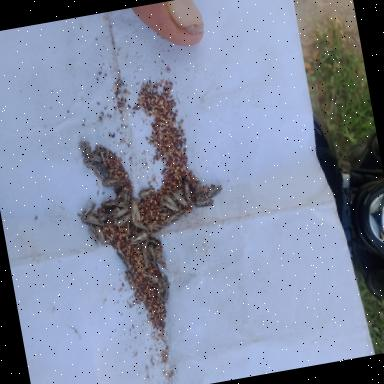pbw: (113, 240, 133, 274), (139, 234, 156, 270), (76, 194, 98, 220), (126, 228, 152, 250), (138, 263, 160, 286), (158, 192, 180, 215), (153, 247, 170, 274), (128, 215, 150, 235), (162, 209, 187, 226), (158, 273, 172, 303), (182, 180, 194, 212), (128, 196, 142, 222), (153, 276, 167, 300), (134, 186, 157, 200), (86, 212, 106, 228), (204, 183, 224, 199), (172, 189, 188, 209), (101, 176, 120, 192), (146, 244, 158, 269), (88, 222, 100, 246), (192, 196, 215, 208), (193, 180, 206, 201), (100, 197, 120, 210), (112, 204, 130, 218), (115, 213, 134, 226), (146, 220, 164, 233), (95, 223, 106, 244), (82, 155, 100, 166), (124, 220, 132, 236)
